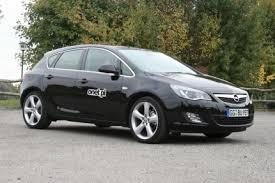opel: (233, 94, 240, 102)
